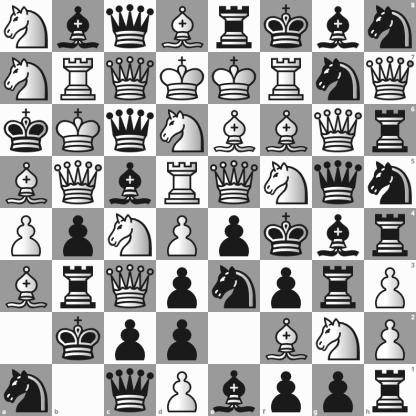B: (1, 157, 52, 208), (1, 261, 52, 312), (157, 1, 208, 52), (209, 105, 260, 156), (261, 105, 312, 156), (261, 313, 312, 364)
K: (53, 105, 104, 156), (157, 53, 208, 104), (209, 53, 260, 104)
N: (1, 1, 52, 52), (1, 53, 52, 104), (105, 209, 156, 260), (157, 105, 208, 156), (261, 157, 312, 208), (313, 313, 364, 364)
P: (156, 364, 209, 416), (364, 260, 416, 312), (364, 312, 416, 364), (1, 209, 52, 260), (157, 209, 208, 260)
Q: (364, 52, 416, 104), (53, 157, 104, 208), (105, 53, 156, 104), (105, 261, 156, 312), (209, 157, 260, 208), (313, 105, 364, 156)
R: (53, 53, 104, 104), (157, 157, 208, 208), (261, 53, 312, 104)
b: (209, 364, 260, 416), (53, 1, 104, 52), (105, 157, 156, 208), (313, 1, 364, 52), (313, 209, 364, 260)
board: (0, 0, 415, 415)
k: (1, 105, 52, 156), (53, 313, 104, 364), (261, 1, 312, 52), (261, 209, 312, 260)
n: (364, 156, 416, 209), (0, 364, 52, 416), (364, 0, 416, 52), (209, 261, 260, 312), (313, 53, 364, 104)
p: (260, 364, 312, 416), (312, 364, 364, 416), (53, 209, 104, 260), (105, 313, 156, 364), (157, 261, 208, 312), (157, 313, 208, 364), (209, 209, 260, 260), (261, 261, 312, 312)
q: (104, 364, 156, 416), (105, 1, 156, 52), (105, 105, 156, 156), (313, 157, 364, 208)
r: (364, 104, 416, 156), (364, 364, 416, 416), (364, 209, 416, 260), (53, 261, 104, 312), (209, 1, 260, 52), (313, 261, 364, 312)
